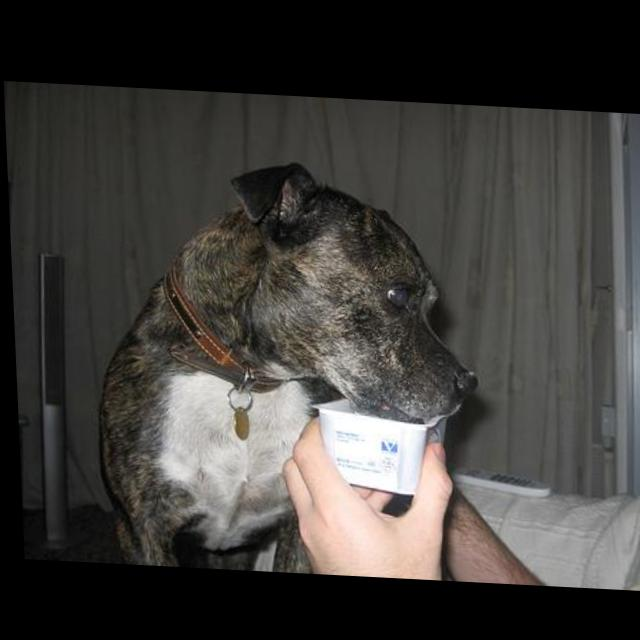staffford: (84, 149, 483, 579)
